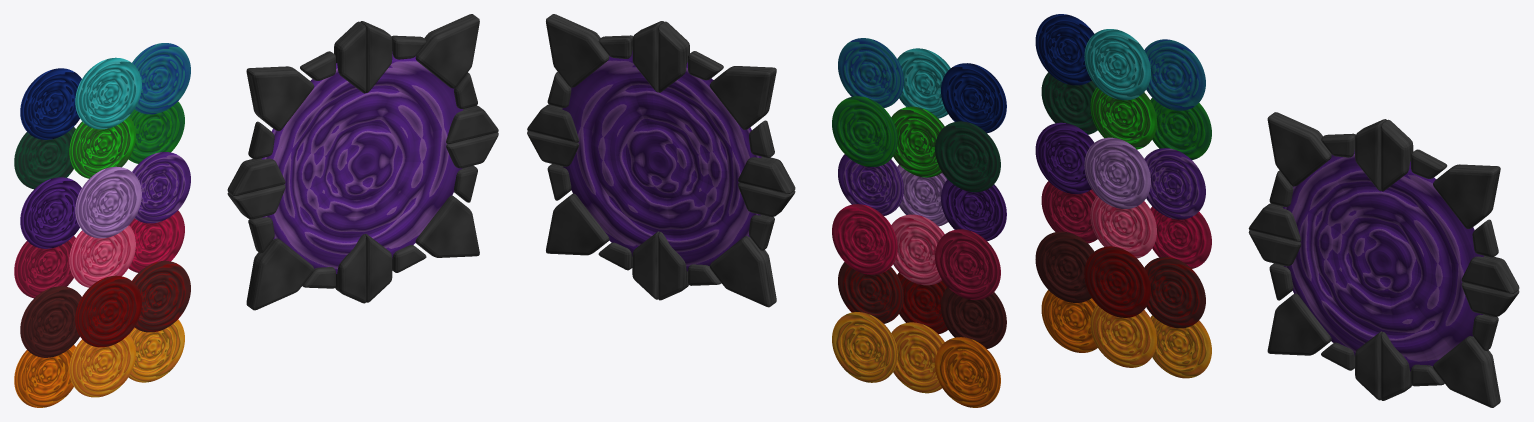
File: Portals.fbx
3 renders of one model, left to right at view 1: azimuth 30°, elevation 25°; view 2: azimuth 150°, elevation 25°; view 3: azimuth 330°, elevation 25°, orthographic.
Visible parts, largest first — view 1: MainPortal, Examples; view 2: MainPortal, Examples; view 3: MainPortal, Examples.
Part boxes in pixels (x1,y1,x2,y2): MainPortal: (227,14,498,310); Examples: (14,43,190,407); MainPortal: (527,14,795,307); Examples: (832,38,1006,407); MainPortal: (1248,112,1519,407); Examples: (1035,14,1211,378).
Bounding box in the file's own units: 3679 × 2512 × 158.
